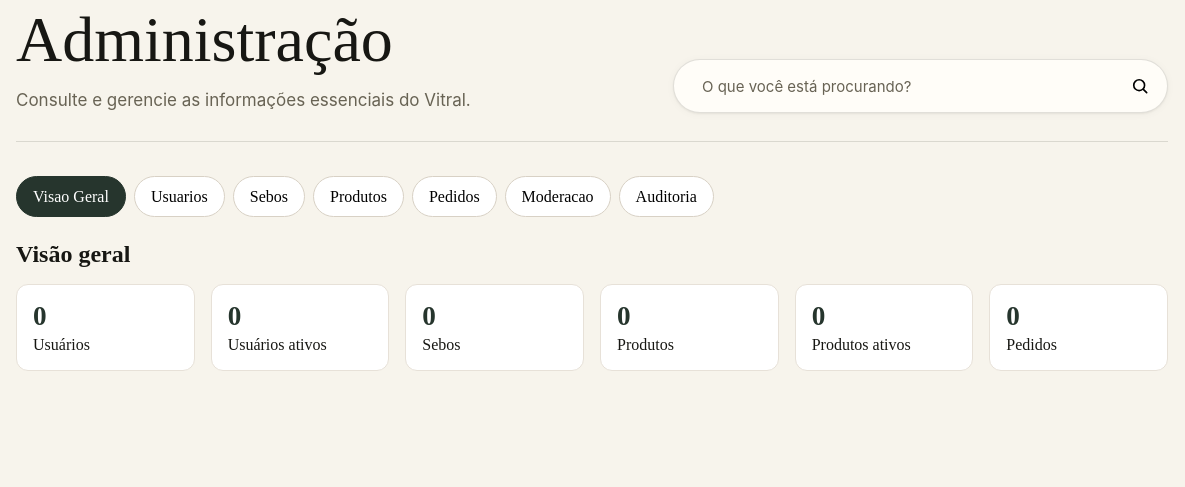
it: administração › permite tentar novamente a localização de um sebo pendente
Click the button "Sebos" at (269, 197), box [233,176,305,217]
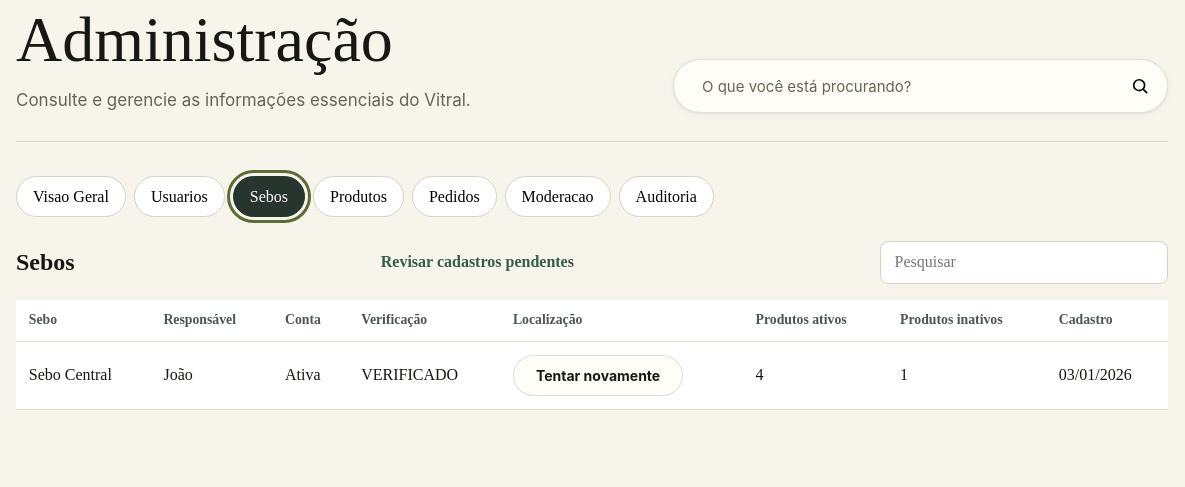
Click the button with aria-label "Tentar localizar Sebo Central novamente" at (598, 375), box [513,355,683,396]
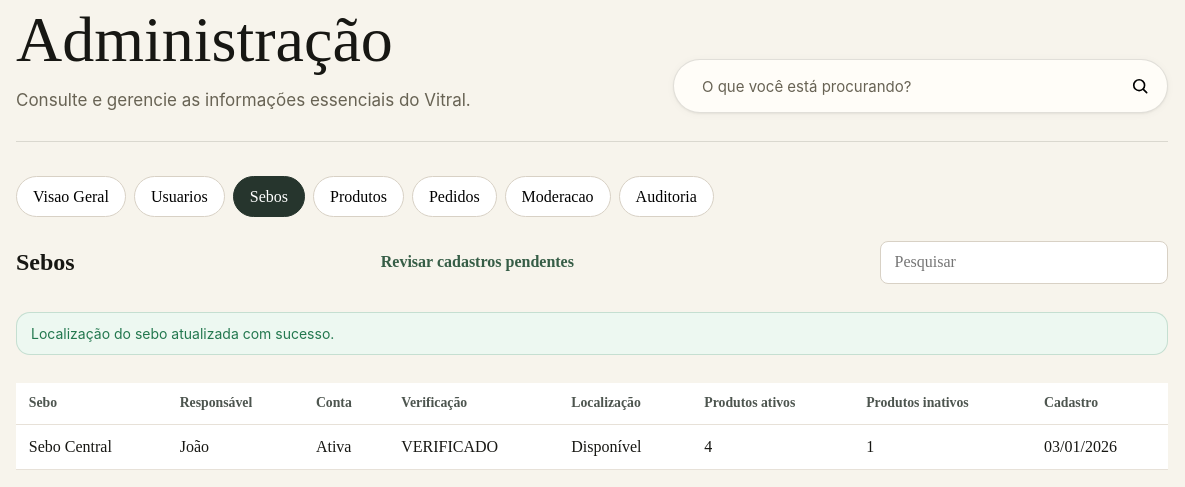
Now the message reads "Localização do sebo atualizada com sucesso.", box [31,324,334,342]
Now the text "Disponível" is shown, box [558,425,692,469]
